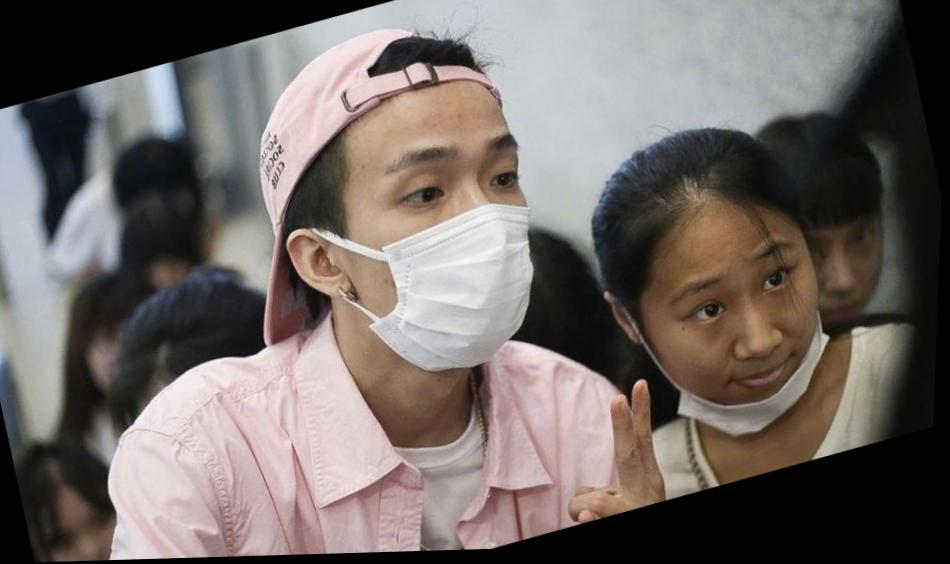NONE: (778, 202, 901, 348), (47, 500, 143, 563)
OK: (312, 100, 576, 389)
WRONG: (623, 218, 857, 458)
